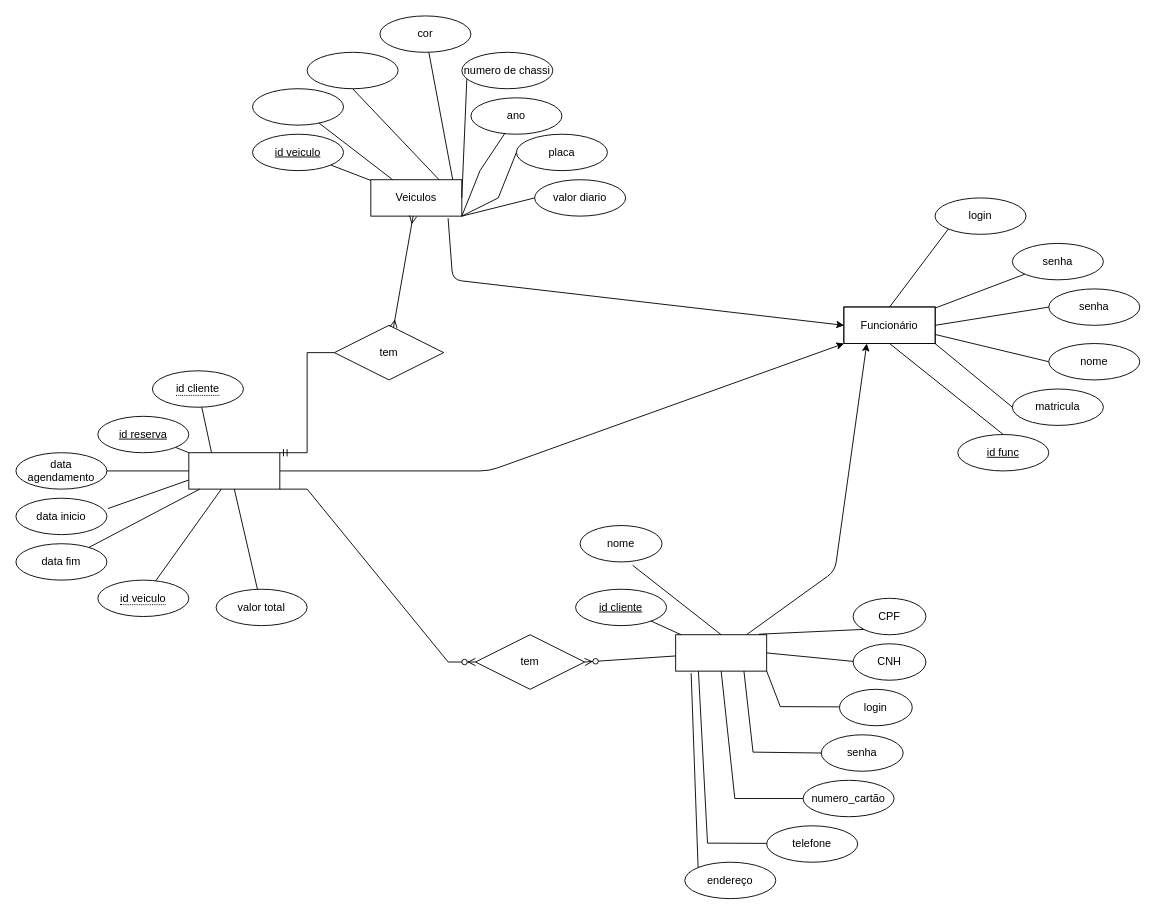
The diagram is 1156 pixels wide and 915 high, and some of its shapes have lost their labels. The box of each missing label's shape, as (x1, y1, x2, y2) in pixels:
Cliente: (675, 634, 767, 671)
marca: (306, 51, 398, 89)
modelo: (252, 88, 344, 125)
Reserva: (188, 452, 280, 489)
